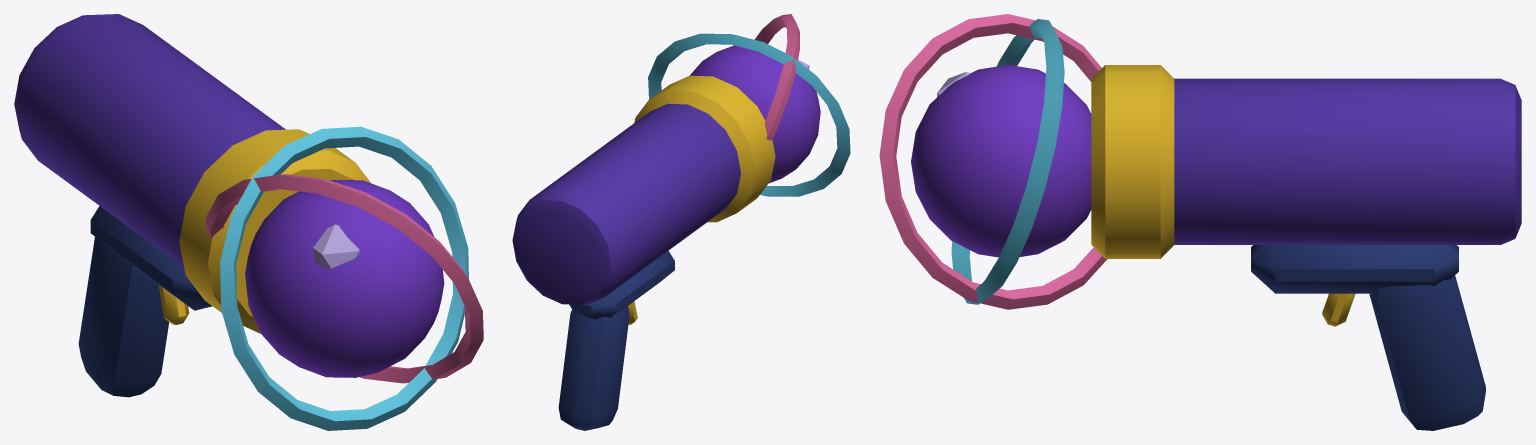
The model's file is w_a_gravity.glb.
3 views of the same model, side by side, from view 1: azimuth 30°, elevation 25°; view 2: azimuth 150°, elevation 25°; view 3: azimuth 270°, elevation 25° (orthographic). The views are drawn at different scales.
Parts seen in each view (by area): view 1: body; view 2: body; view 3: body.
Boxes of the visible parts, x1,y1,x2,y2 form: body: (14, 14, 483, 430); body: (512, 14, 850, 430); body: (879, 14, 1521, 430).
Size of the model in its own units: 0.3613 by 0.5302 by 0.7865.
